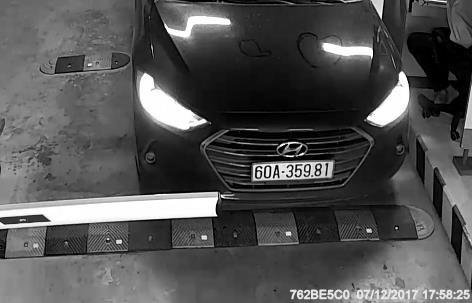License-plate: (247, 154, 338, 188)
